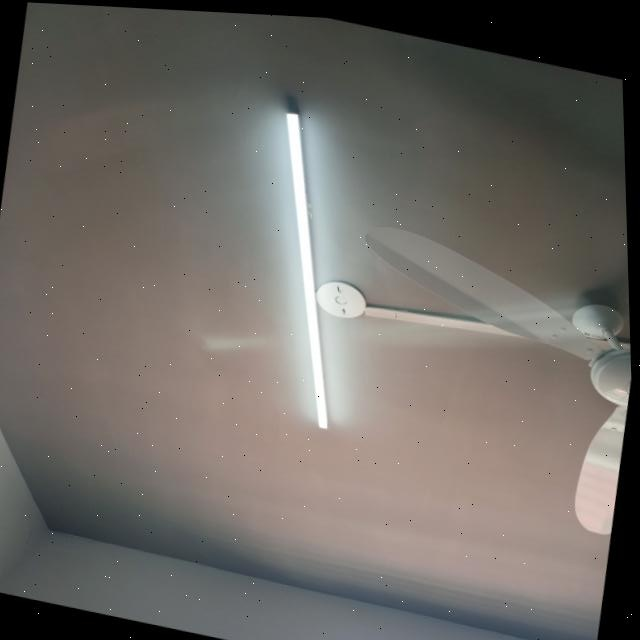fluorescent tube: (234, 100, 383, 435)
